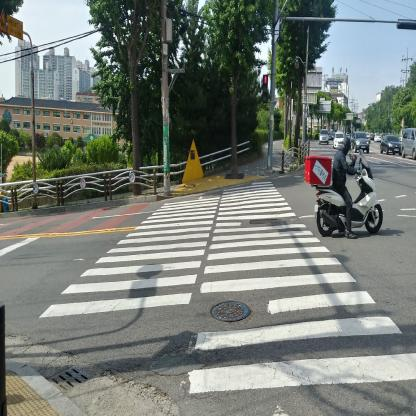Red: (262, 74, 268, 103)
